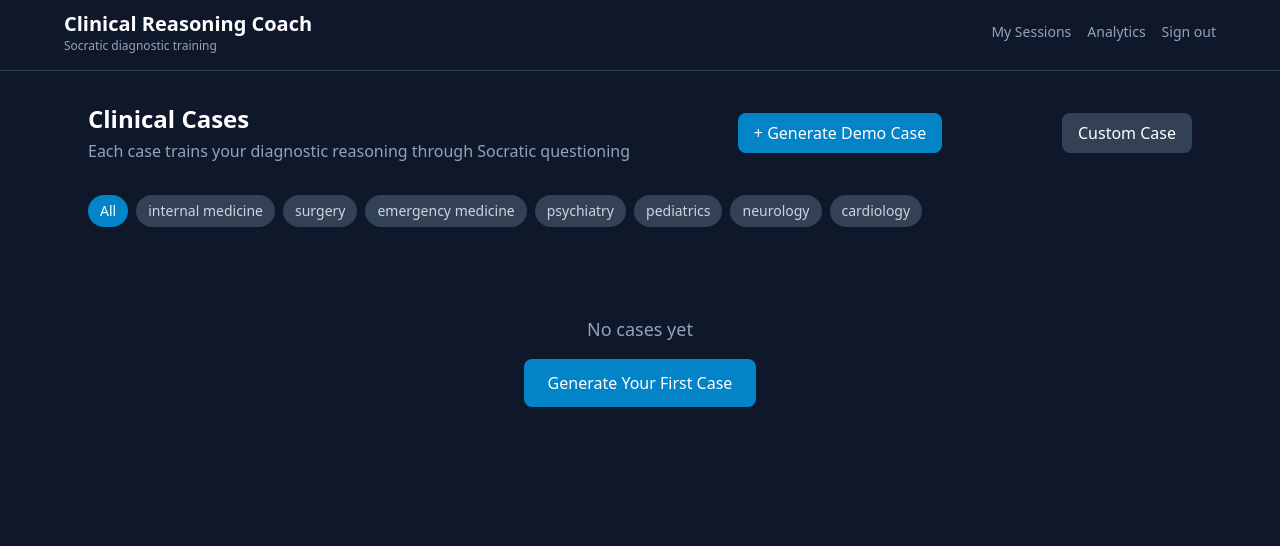
Scenario: CasesPage › shows structured quality gate feedback when demo generation is blocked
This screenshot has width=1280, height=546.
Click the button "Generate Your First Case" at (640, 383), box [524,359,756,407]
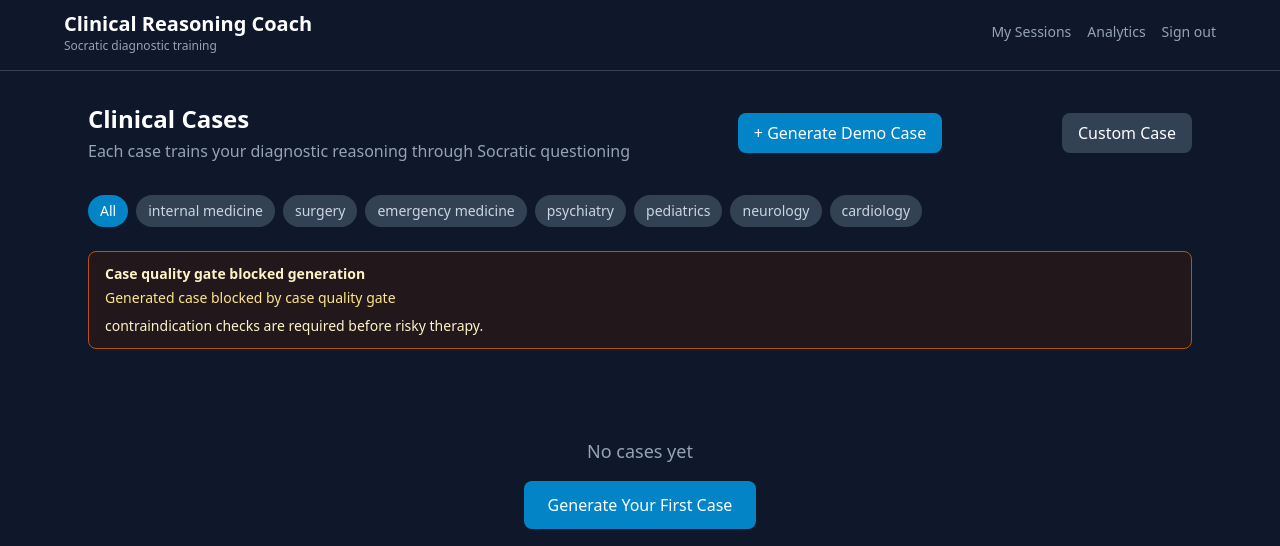
Expected: the text "Case quality gate blocked generation" is shown, [105,264,365,283]
Expected: the list item "contraindication checks are required before risky therapy." is shown, [105,316,483,335]
